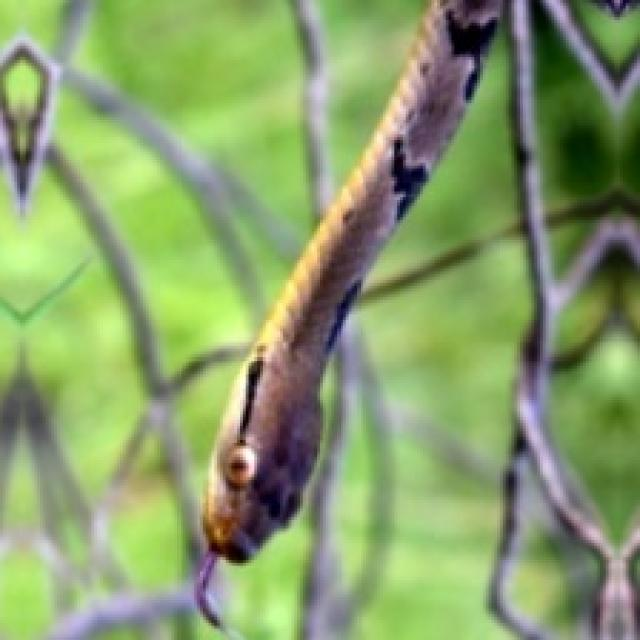dog-toothed cat snake: (194, 0, 500, 617)
